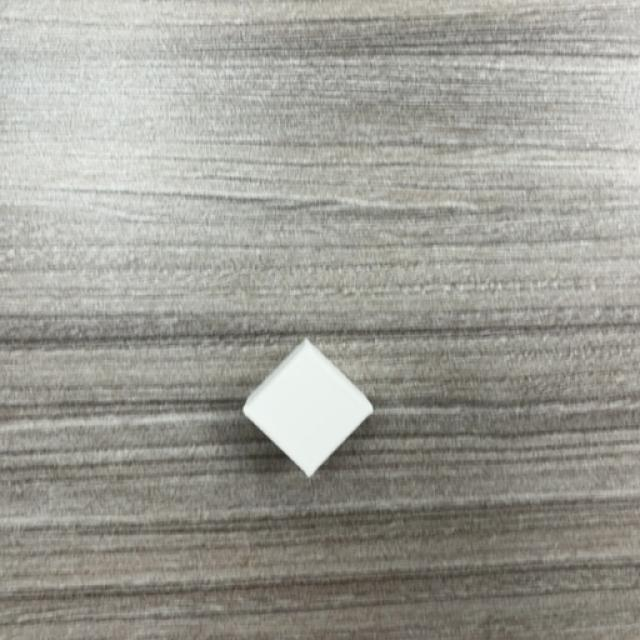Blanco: (240, 340, 374, 479)
